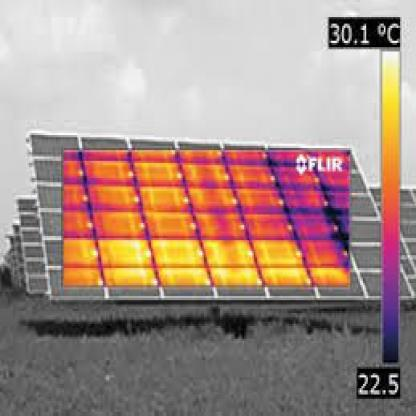Defects: (101, 236, 156, 264)
